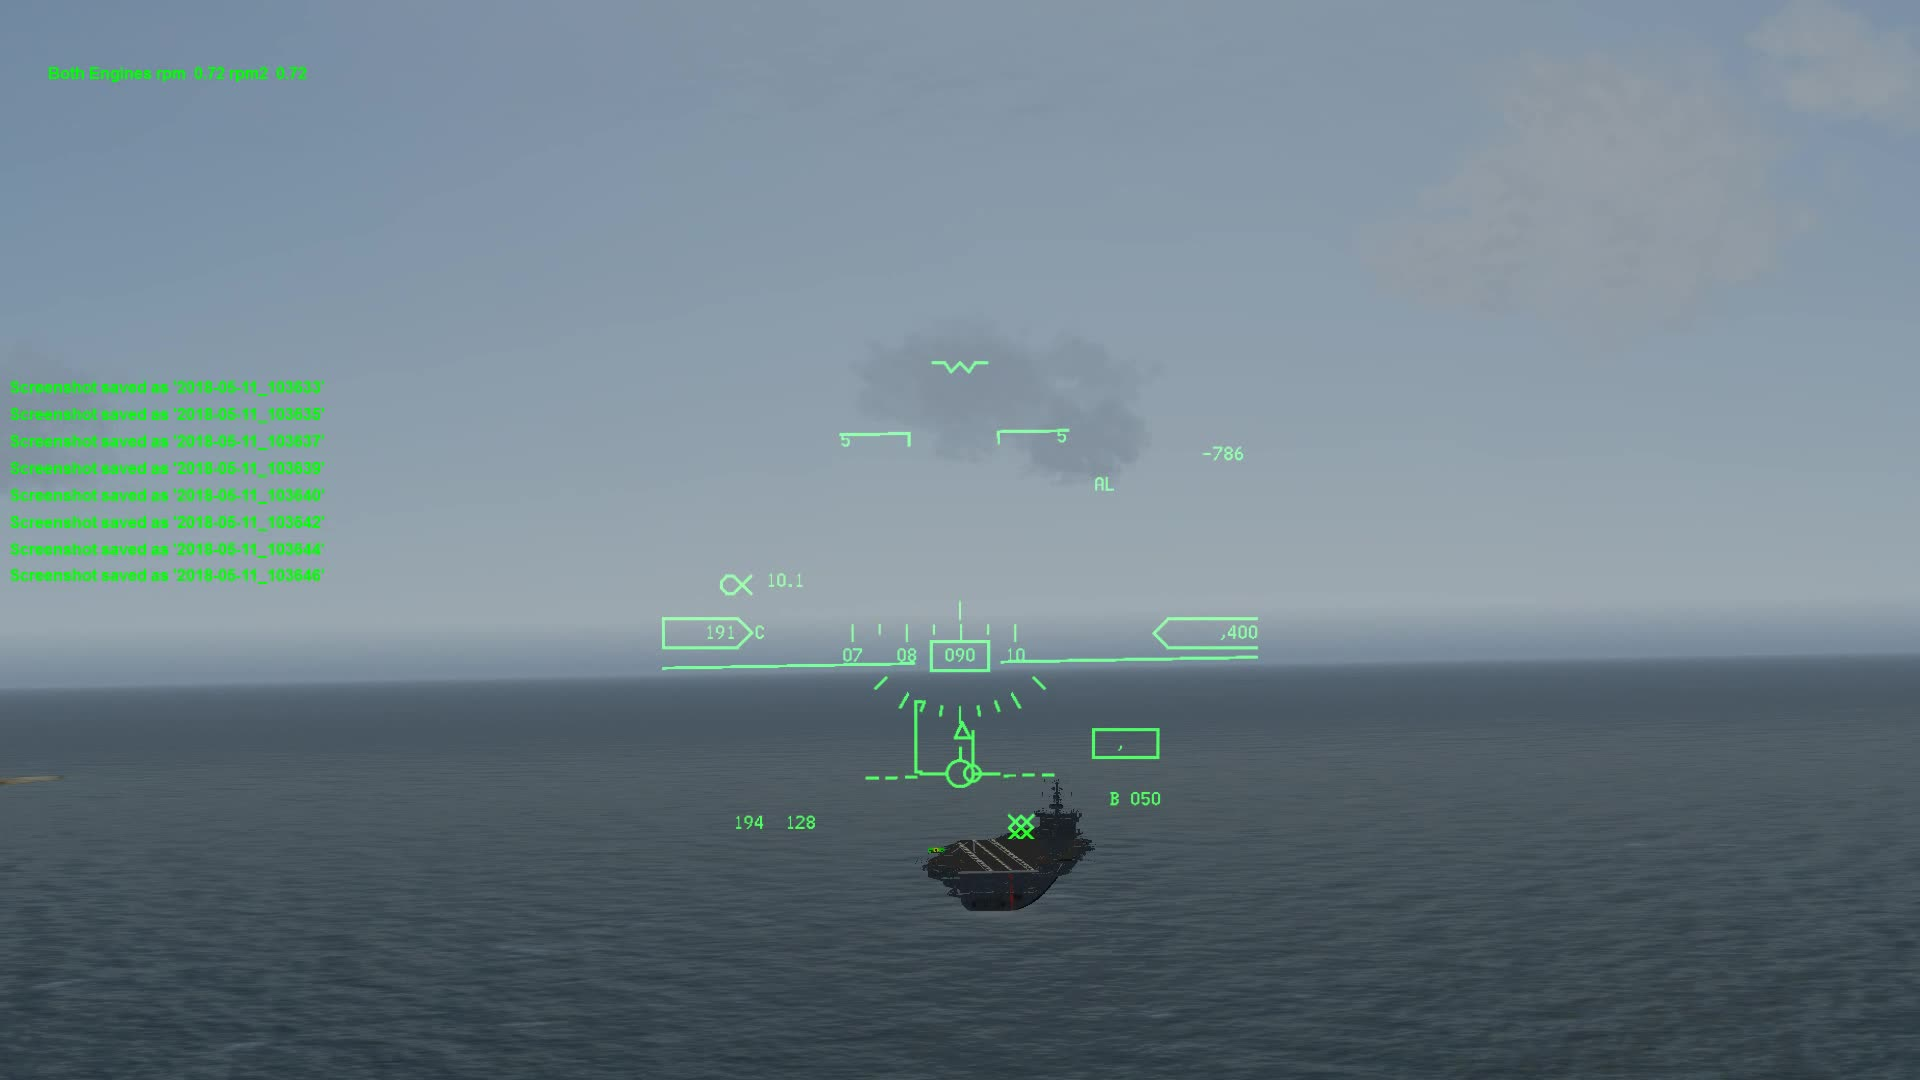speed_vector: (922, 745, 1004, 793)
